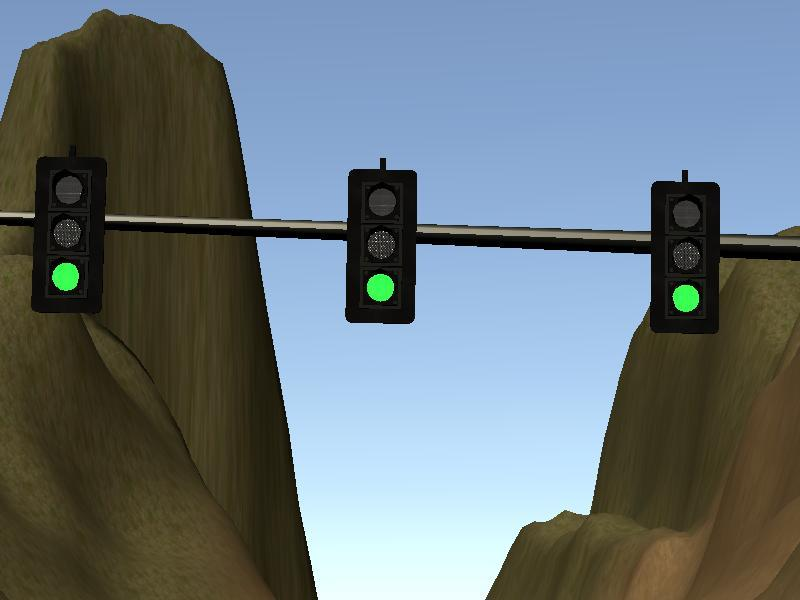Green: (348, 171, 415, 321), (652, 183, 717, 333), (37, 158, 100, 306)
